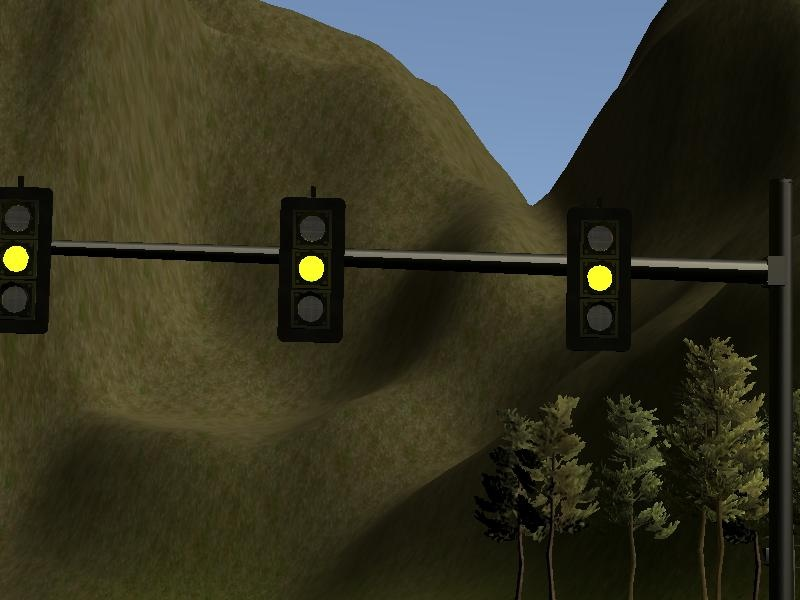YELLOW: (565, 202, 633, 358), (277, 195, 347, 346), (1, 185, 55, 331)
